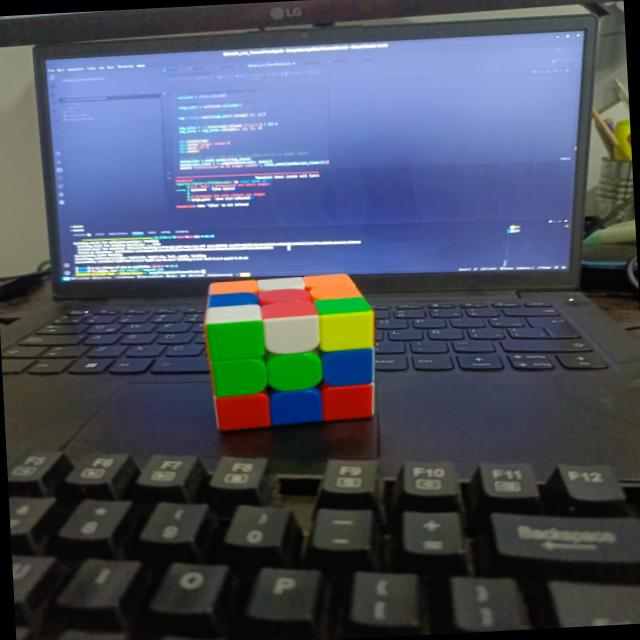rubik: (199, 270, 381, 432)
